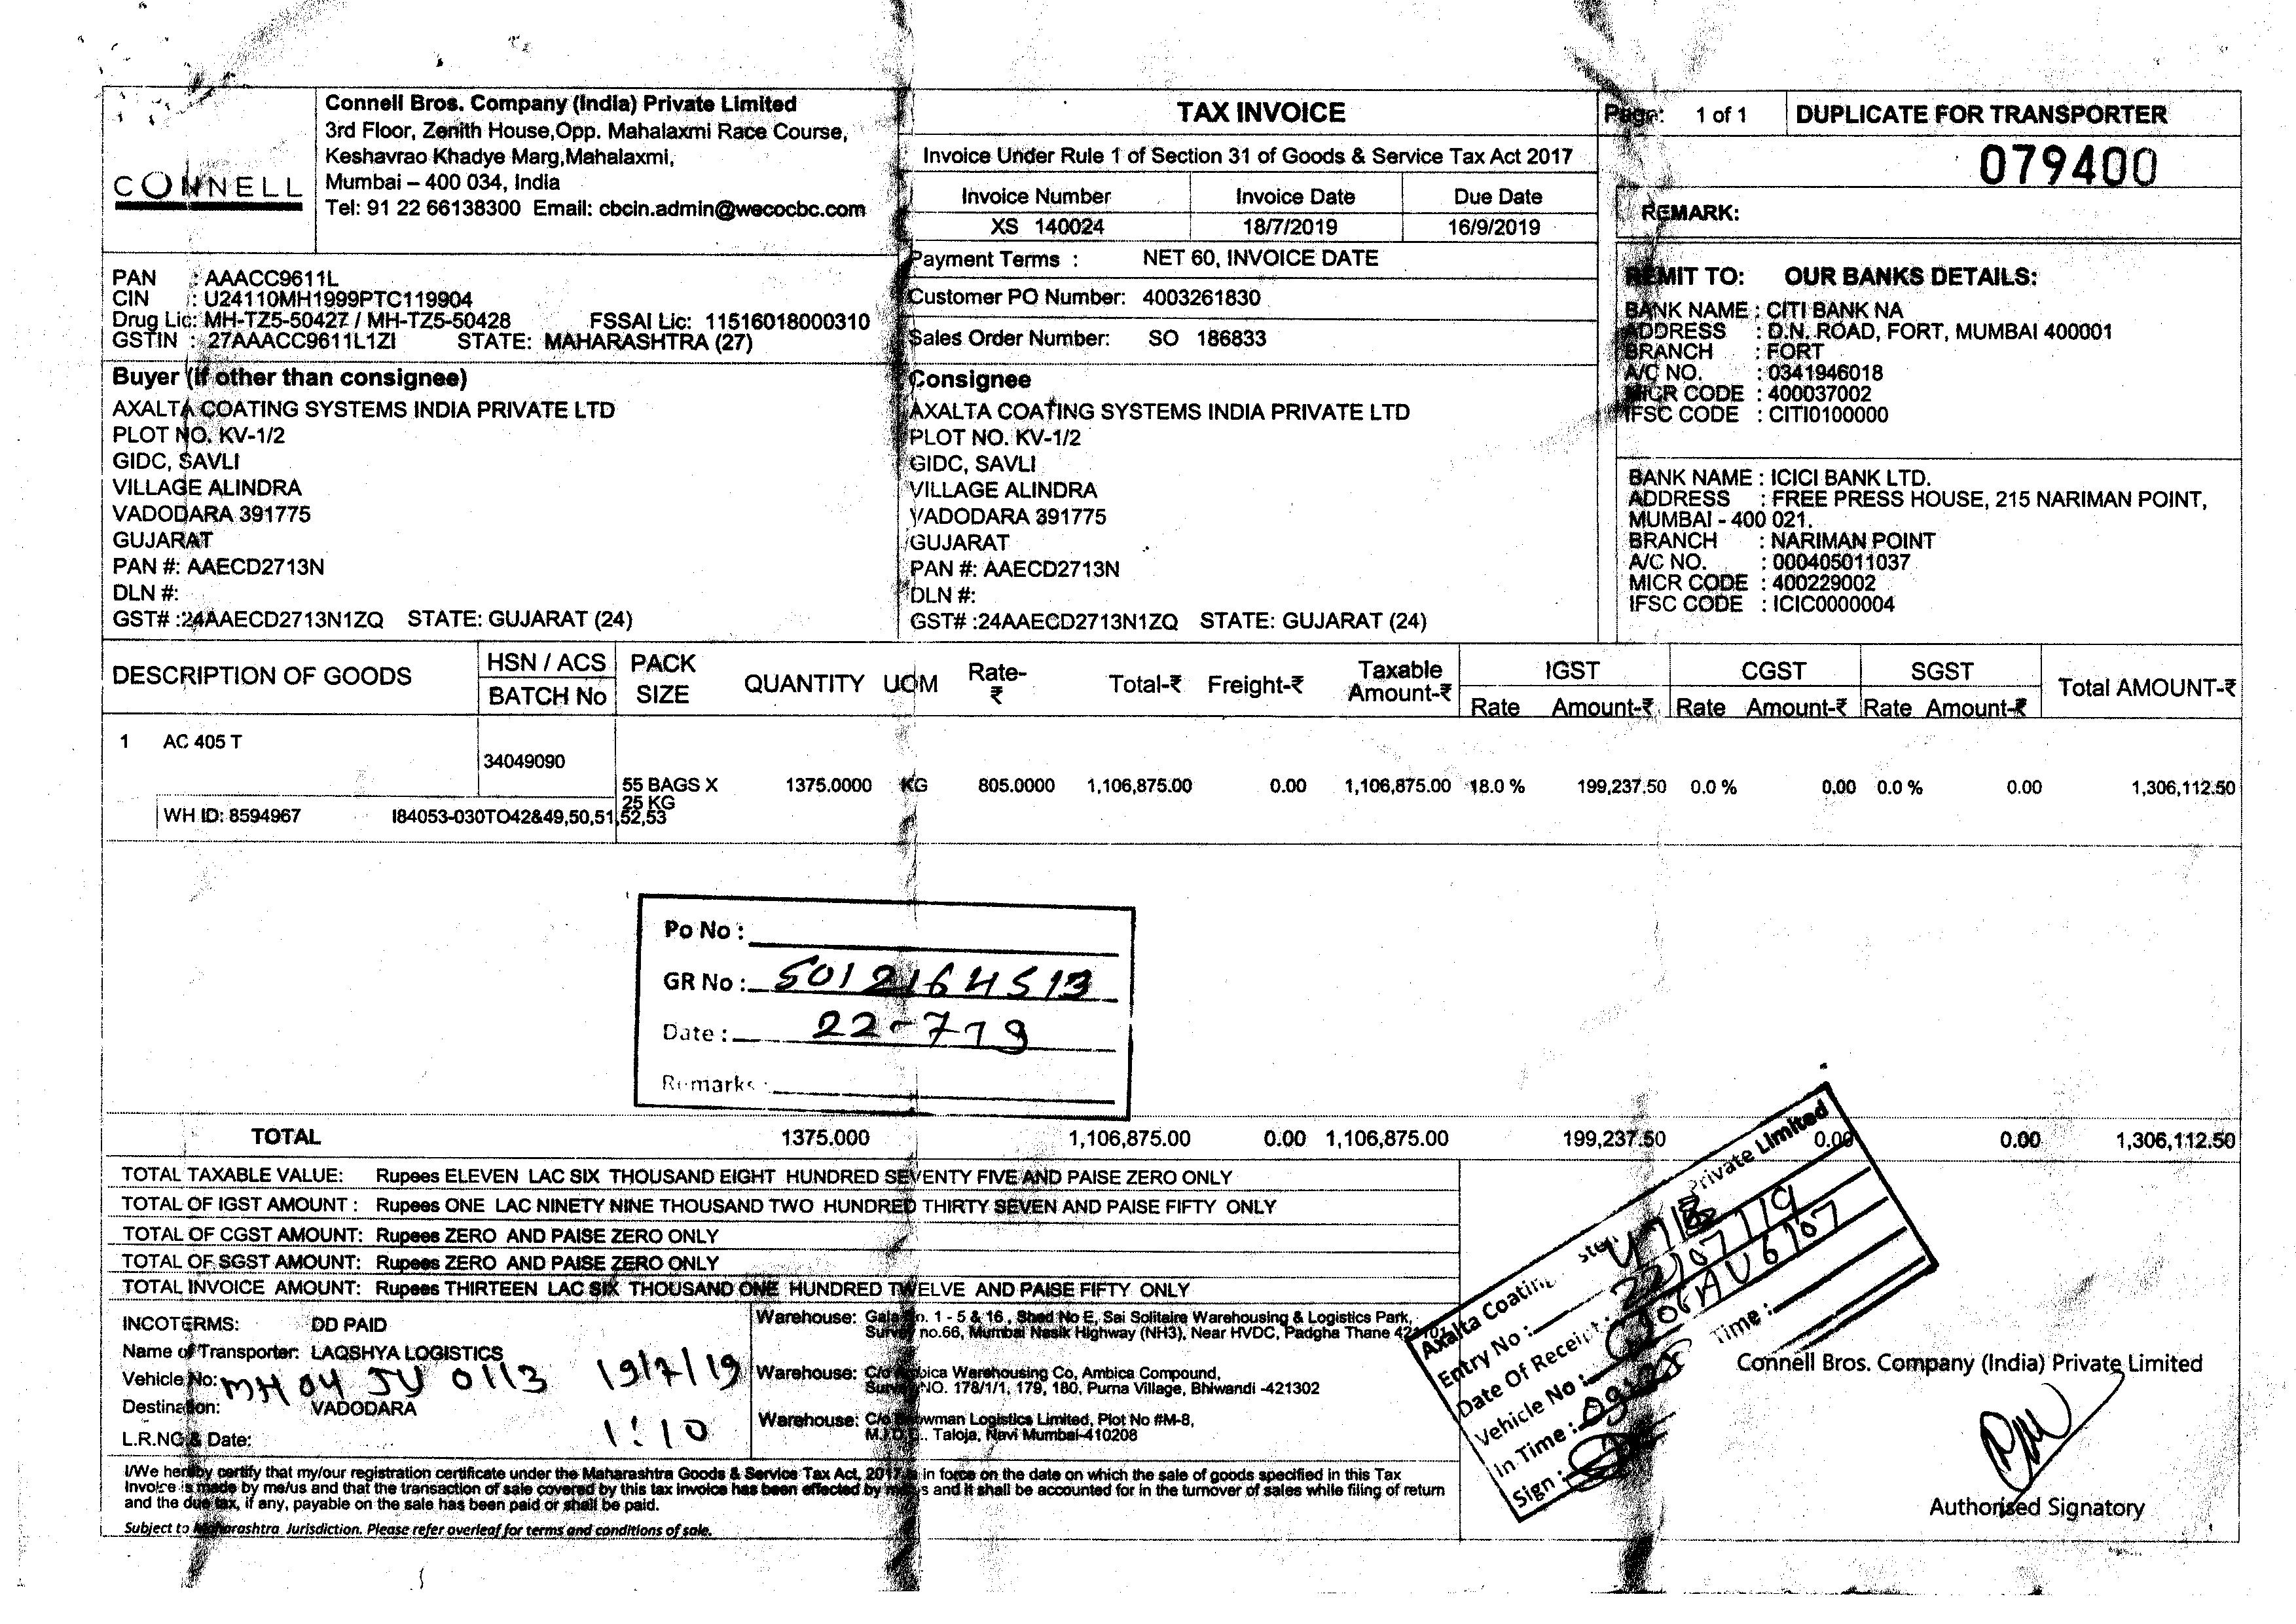B_Paragraph: (114, 1160, 1282, 1301), (899, 388, 1435, 636), (111, 394, 657, 636), (111, 1461, 1449, 1550), (761, 1301, 1449, 1461), (1627, 459, 2213, 626), (112, 1306, 747, 1454), (107, 257, 880, 357), (321, 90, 873, 228), (1616, 301, 2119, 436), (921, 144, 1586, 237), (913, 244, 1383, 359), (1741, 1339, 2208, 1387), (1783, 95, 2175, 137), (1953, 137, 2180, 188), (1911, 1490, 2148, 1524), (1686, 97, 1760, 137)
B_SubTitle: (1618, 250, 2047, 301), (104, 350, 478, 399), (899, 355, 1040, 397), (1639, 192, 1741, 230)
B_Table: (107, 647, 2240, 1160)
B_Title: (1168, 83, 1353, 134)
